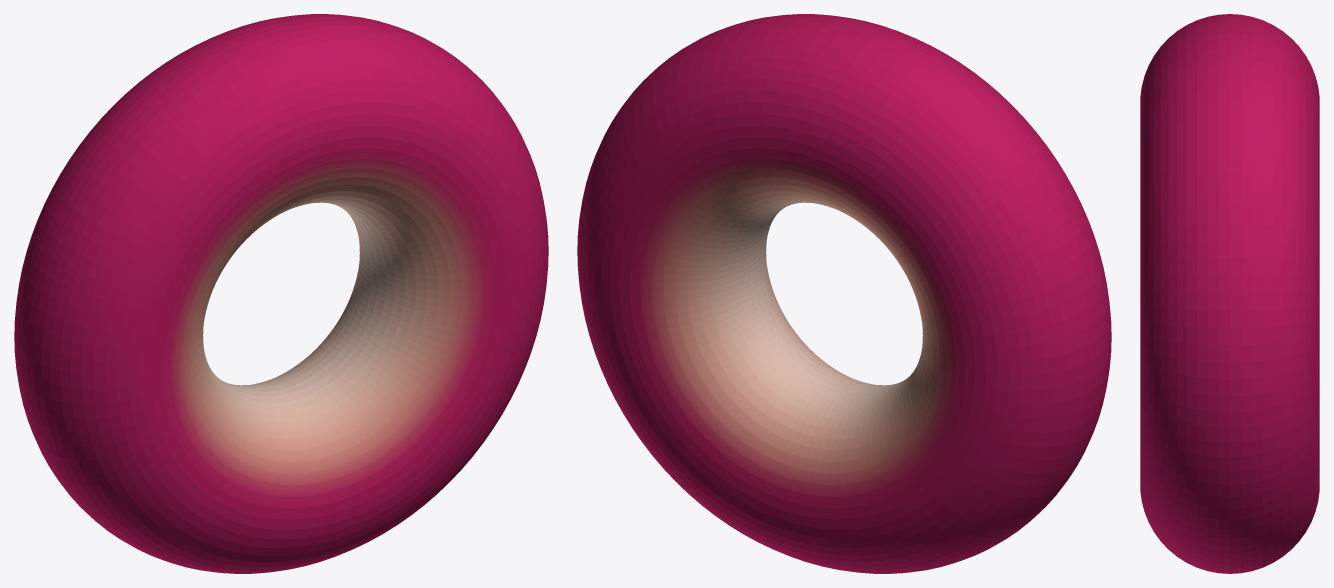
3 views of the same model, side by side, from view 1: azimuth 30°, elevation 25°; view 2: azimuth 150°, elevation 25°; view 3: azimuth 270°, elevation 25° (orthographic). The views are drawn at different scales.
Visible parts, largest first — view 1: world; view 2: world; view 3: world.
Boxes of the visible parts, box(x1,y1,x2,y2) form: world: box(14, 14, 548, 573); world: box(577, 14, 1111, 573); world: box(1140, 14, 1319, 573).
Size of the model in its own units: 29.47 by 29.47 by 9.45.
